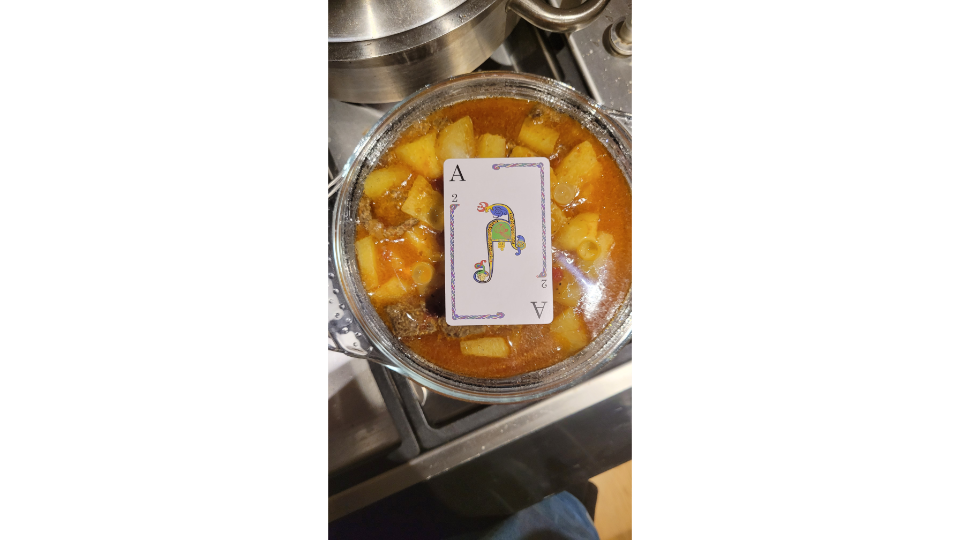A: (439, 154, 557, 327)
